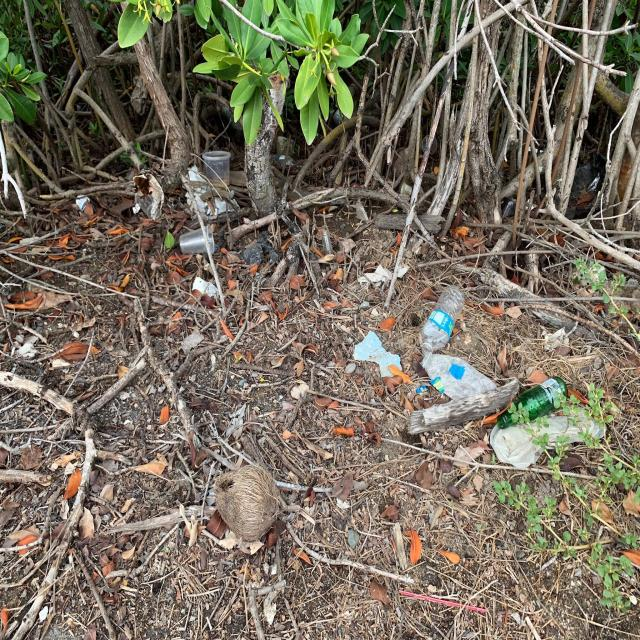litter: (489, 405, 610, 470), (495, 374, 567, 432), (419, 283, 465, 360), (420, 357, 499, 401), (182, 165, 240, 215), (566, 151, 606, 221), (351, 330, 402, 378), (398, 589, 487, 614), (238, 233, 282, 264), (178, 226, 214, 255), (203, 150, 232, 185), (133, 190, 161, 220), (273, 137, 298, 157), (320, 229, 335, 258), (268, 152, 294, 168), (500, 195, 516, 220), (73, 192, 91, 212), (421, 135, 438, 153), (215, 231, 228, 254), (397, 180, 413, 198), (414, 383, 429, 397), (332, 108, 344, 122)
